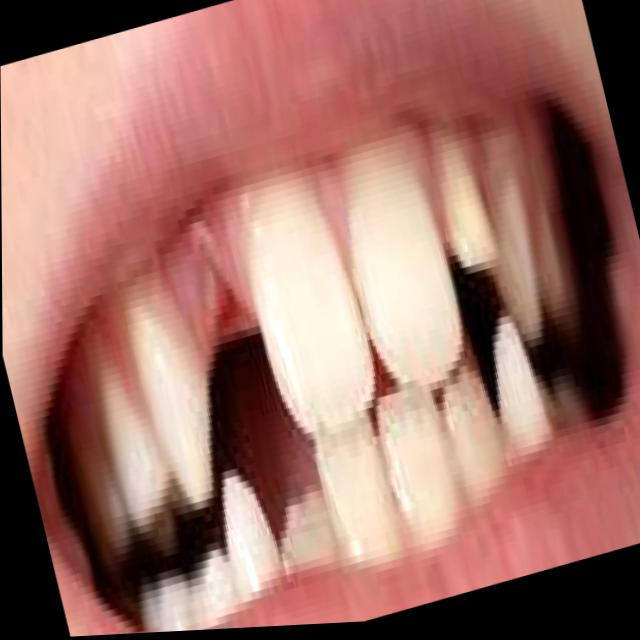hypodontia: (120, 166, 372, 499)
